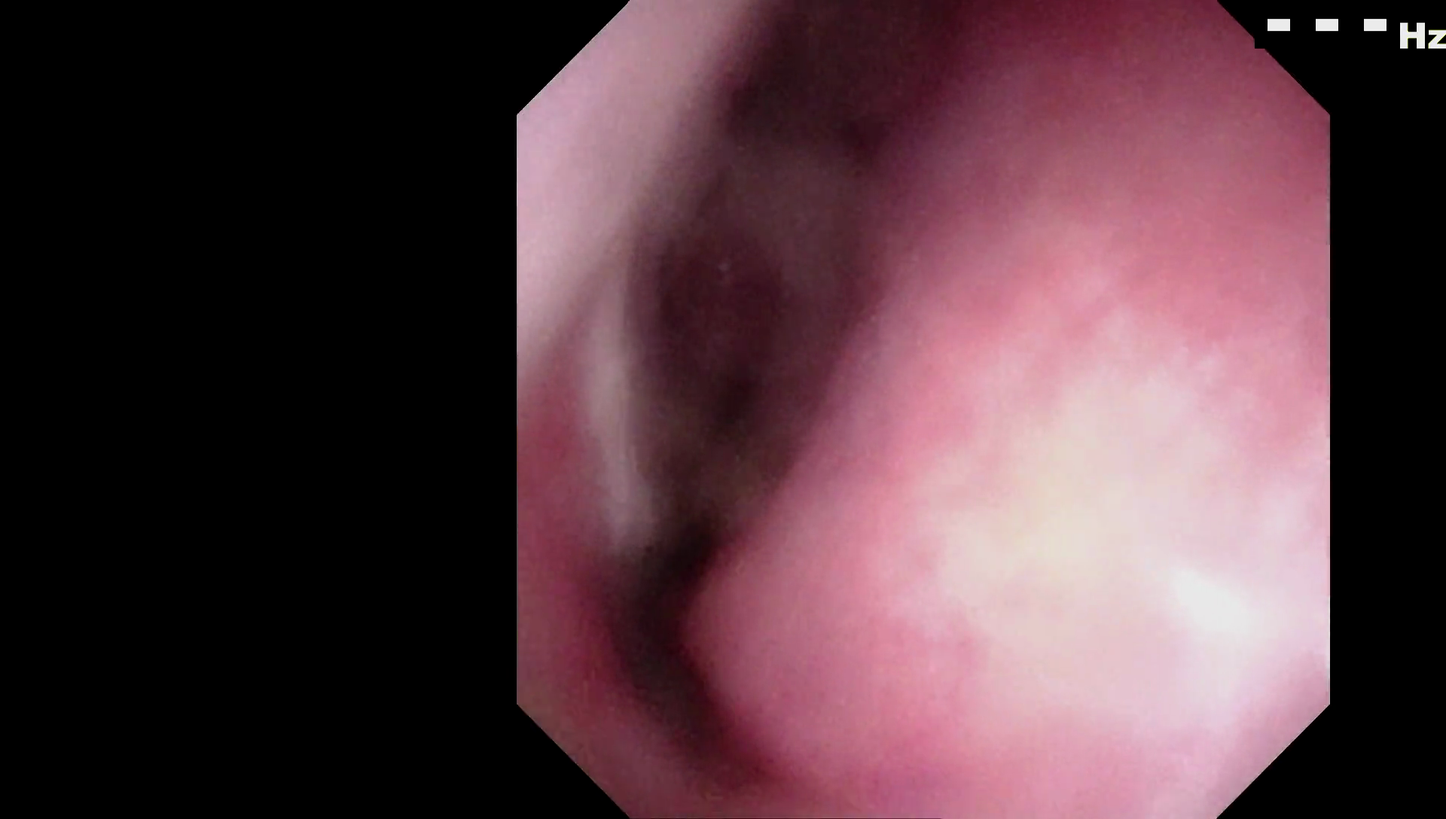close_wall: (867, 313, 1296, 729)
next: (591, 474, 818, 784)
